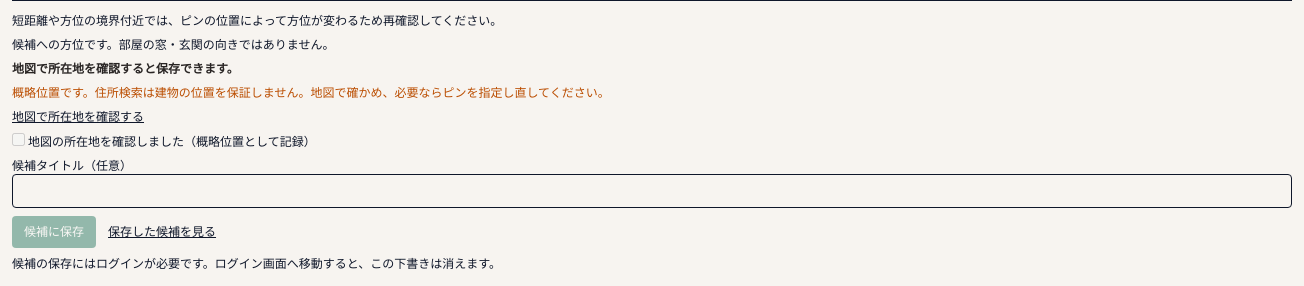
Test: 候補の保存: 入口の手間 › 住所で引いた点は、地図で確かめてから（押すまで印は付けられない）
The width and height of the screenshot is (1304, 286).
Expected: the checkbox labelled "地図の所在地を確認しました（概略位置として記録）" is disabled, x1=12 y1=133 x2=25 y2=146
Expected: the text "地図で所在地を確認すると保存できます。" is shown, x1=12 y1=61 x2=239 y2=77
Click the button "地図で所在地を確認する" at (78,117), box x1=12 y1=109 x2=144 y2=125
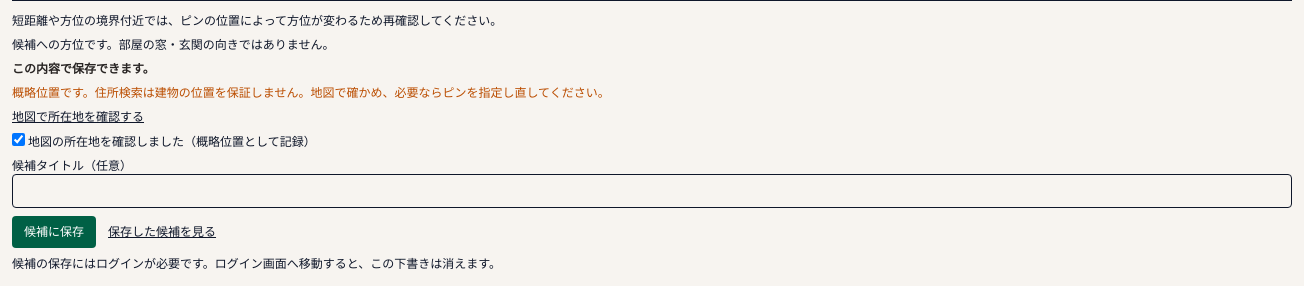
Expected: the checkbox labelled "地図の所在地を確認しました（概略位置として記録）" is enabled
Expected: the checkbox labelled "地図の所在地を確認しました（概略位置として記録）" is checked
Expected: the button "候補に保存" is enabled, x1=12 y1=216 x2=96 y2=248
Click the checkbox labelled "地図の所在地を確認しました（概略位置として記録）" at (18,140), box x1=12 y1=133 x2=25 y2=146
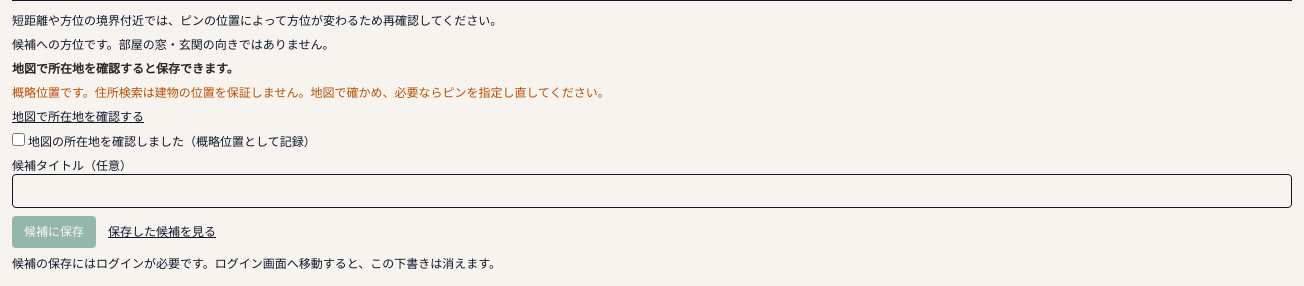
Expected: the checkbox labelled "地図の所在地を確認しました（概略位置として記録）" is not checked, x1=12 y1=133 x2=25 y2=146
Expected: the button "候補に保存" is disabled, x1=12 y1=216 x2=96 y2=248
